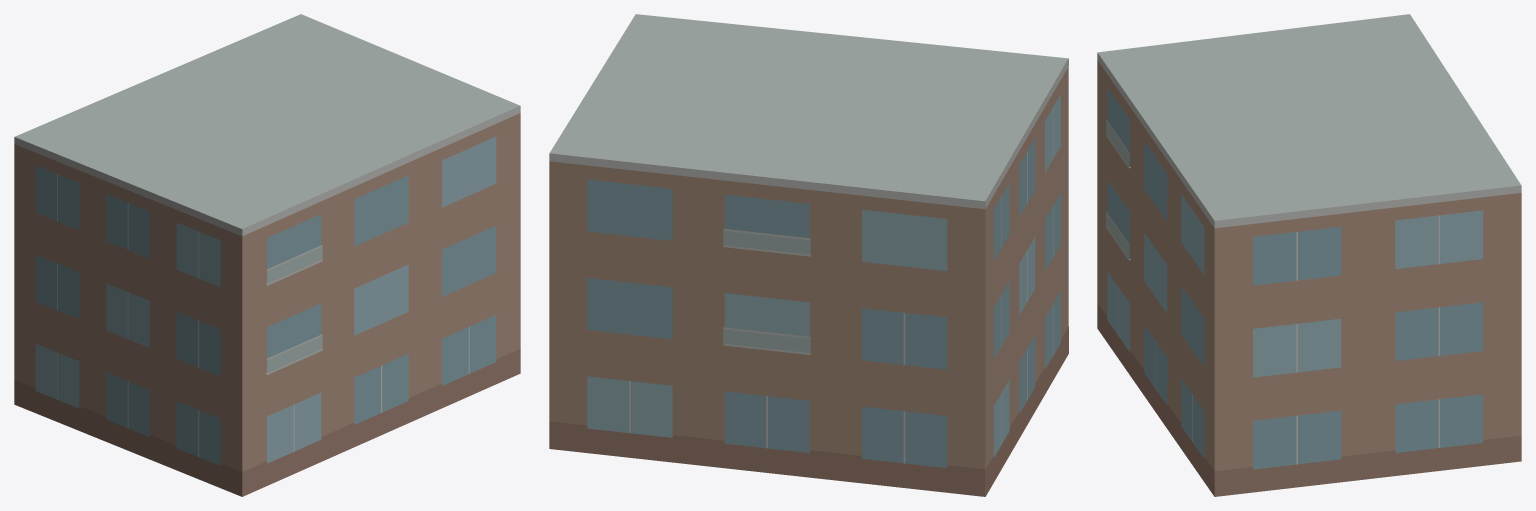
File: survey-upis-32762054.glb
The picture shows the model from 3 angles, left to right: view 1: azimuth 30°, elevation 25°; view 2: azimuth 150°, elevation 25°; view 3: azimuth 270°, elevation 25°; orthographic projection. The views are drawn at different scales.
Visible parts, largest first — view 1: survey-upis-32762054.tmp; view 2: survey-upis-32762054.tmp; view 3: survey-upis-32762054.tmp.
Boxes of the visible parts, x1,y1,x2,y2 form: survey-upis-32762054.tmp: (14,14,520,496); survey-upis-32762054.tmp: (549,14,1068,496); survey-upis-32762054.tmp: (1097,14,1521,496).
Size of the model in its own units: 14.73 by 9.15 by 12.76.
